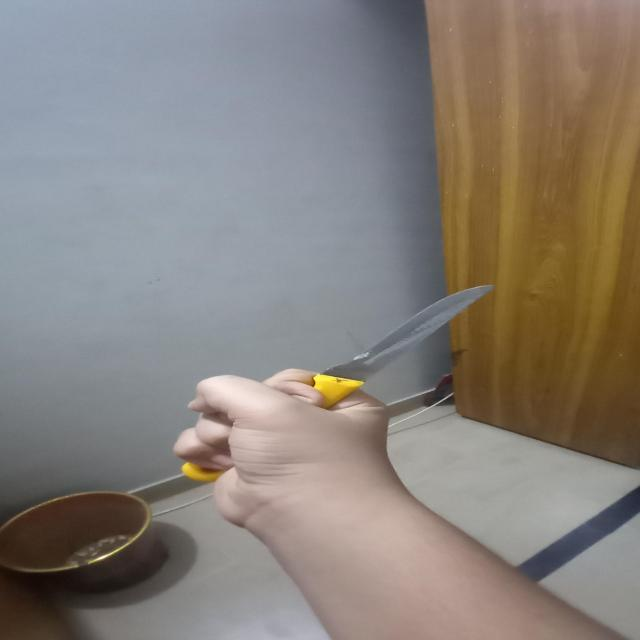Knife: (179, 284, 498, 482)
Person: (182, 370, 640, 640)
